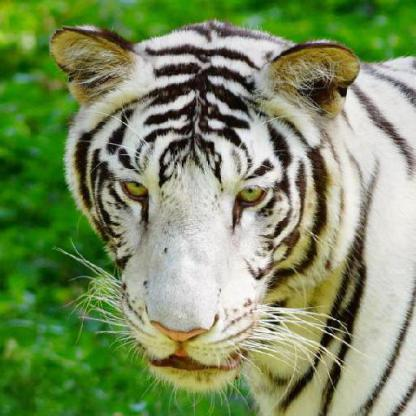tiger: (54, 19, 368, 382)
